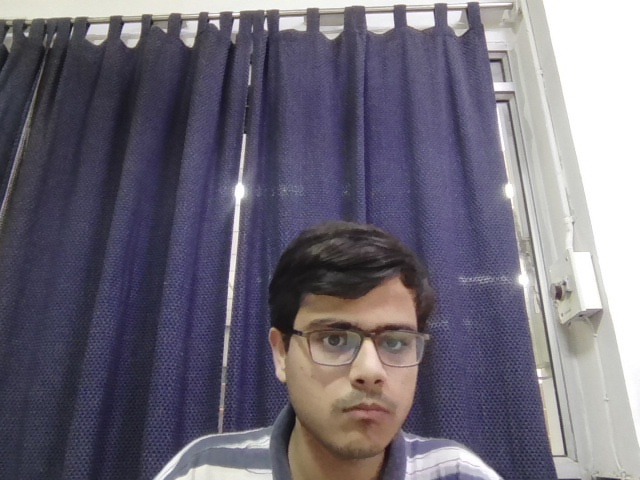face: (268, 220, 429, 460)
